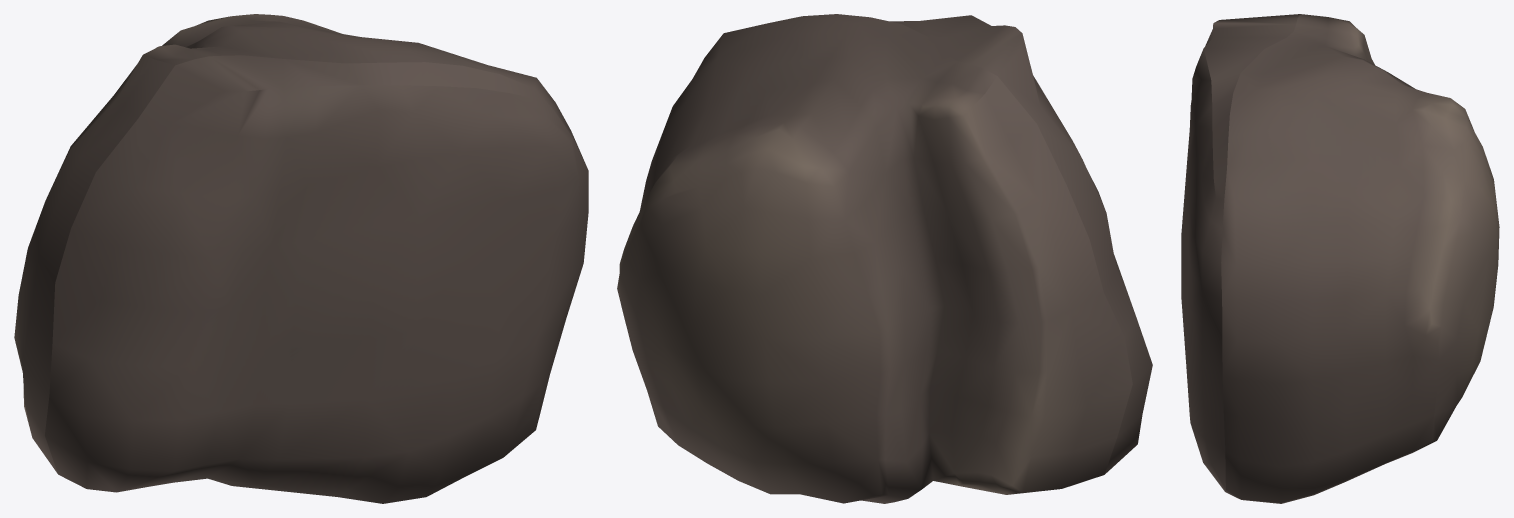
Rendered from RockMedium.007.glb.
The picture shows the model from 3 angles, left to right: view 1: azimuth 30°, elevation 25°; view 2: azimuth 150°, elevation 25°; view 3: azimuth 270°, elevation 25°; orthographic projection. The views are drawn at different scales.
Visible parts, largest first — view 1: RockMedium.007; view 2: RockMedium.007; view 3: RockMedium.007.
Boxes of the visible parts, x1=… form: RockMedium.007: x1=14, y1=14, x2=588, y2=503; RockMedium.007: x1=617, y1=14, x2=1152, y2=503; RockMedium.007: x1=1181, y1=14, x2=1499, y2=503.
Size of the model in its own units: 362 by 319 by 234.
